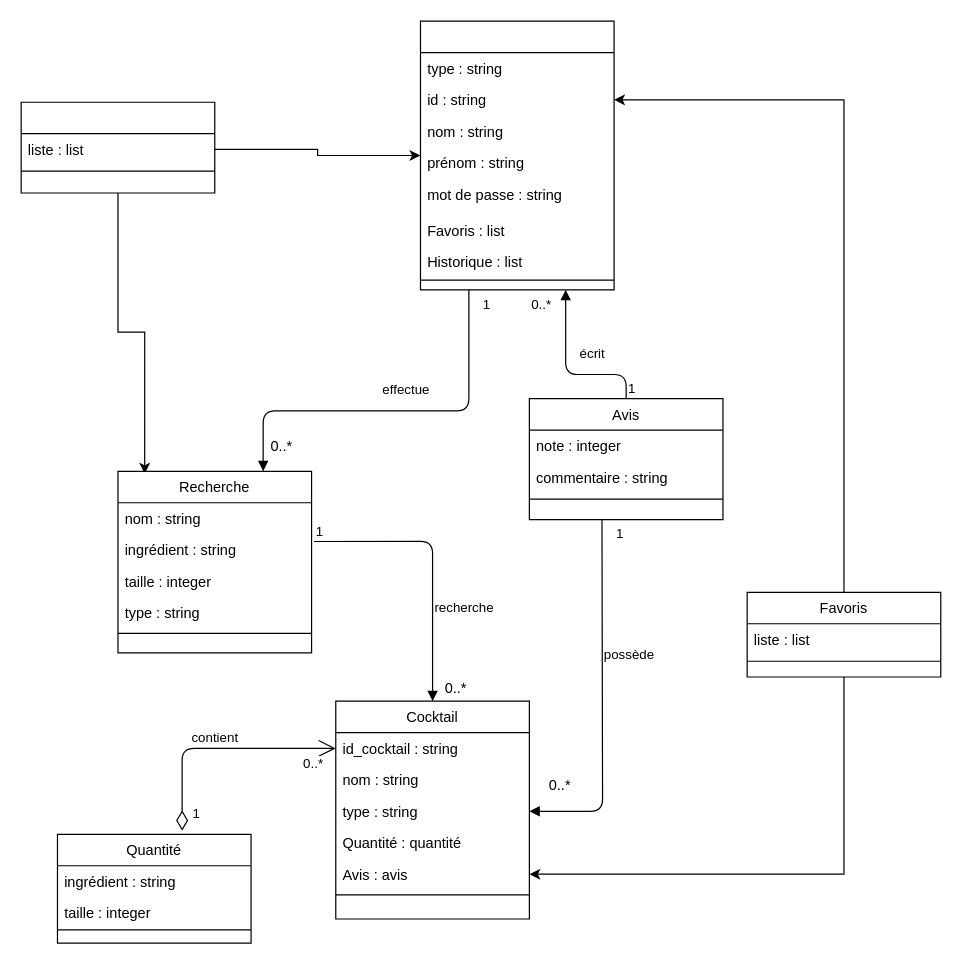
Some shapes in this 962 by 964 pixel diagram are drawn without their labels. The shapes that lost their labels are listed below. From the top down, each one's box as (x1, y1, x2, y2) in pixels, then its label:
(20, 101, 215, 193): historique
(419, 20, 614, 290): Utilisateur
